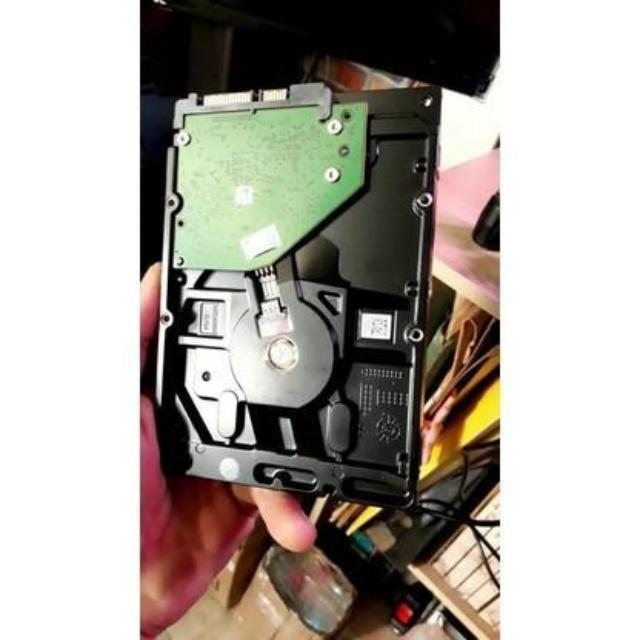DISK: (147, 76, 444, 510)
